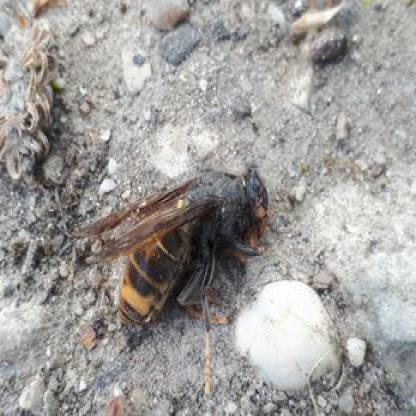Asian Hornet: (109, 159, 275, 357)
